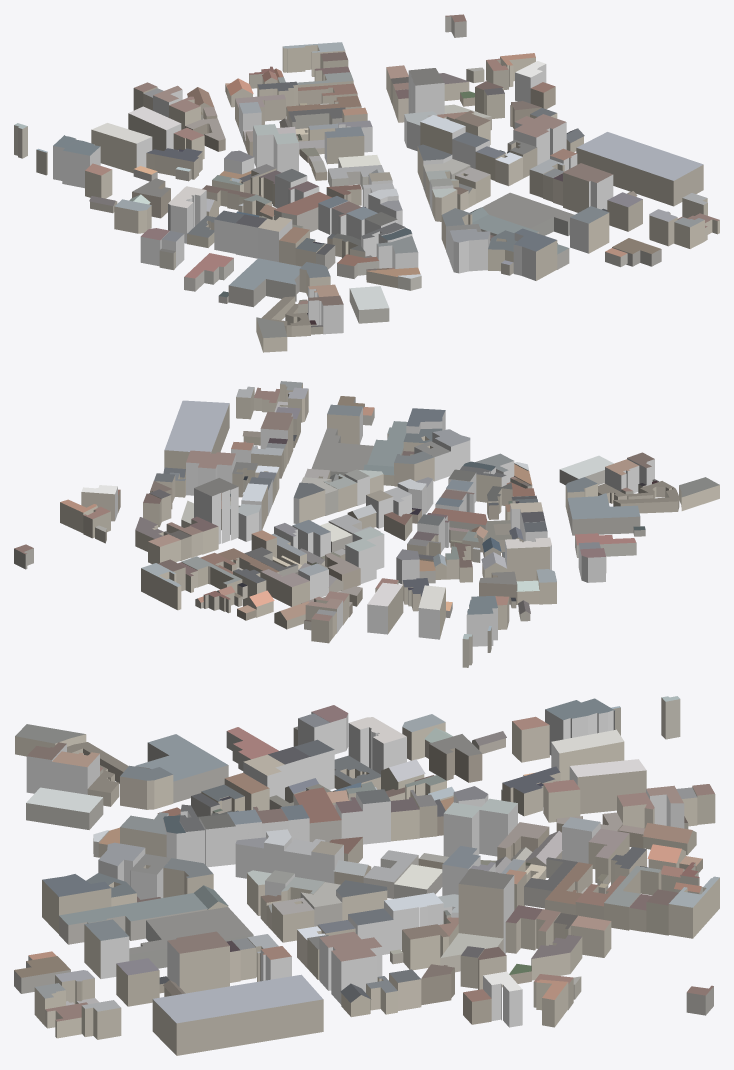
3 renders of one model, top to bottom at view 1: azimuth 30°, elevation 25°; view 2: azimuth 150°, elevation 25°; view 3: azimuth 270°, elevation 25°, orthographic. The views are drawn at different scales.
Parts seen in each view (by area): view 1: tuile; view 2: tuile; view 3: tuile.
Part boxes in pixels (<box>): tuile: <box>14,14,719,352</box>; tuile: <box>14,381,719,667</box>; tuile: <box>14,696,719,1055</box>.
Size of the model in its own units: 276 by 33.79 by 264.
